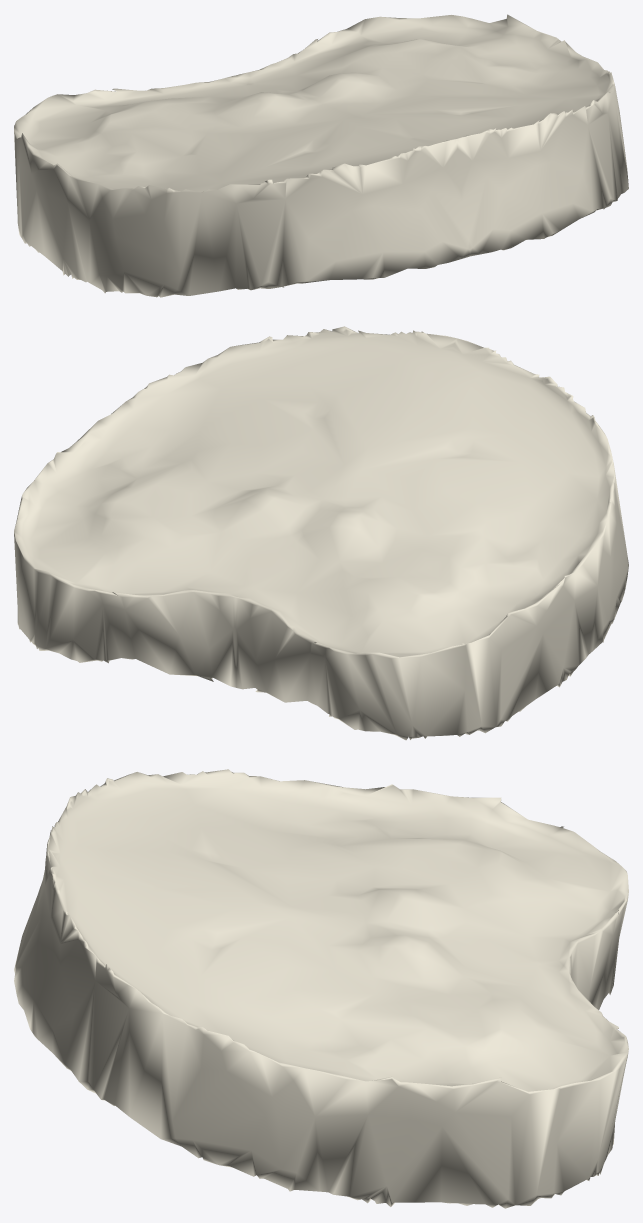
The picture shows the model from 3 angles, top to bottom: view 1: azimuth 30°, elevation 25°; view 2: azimuth 150°, elevation 25°; view 3: azimuth 270°, elevation 25°; orthographic projection. The views are drawn at different scales.
Visible parts, largest first — view 1: ZA_a3bbb926e3fd52f2; view 2: ZA_a3bbb926e3fd52f2; view 3: ZA_a3bbb926e3fd52f2.
Part boxes in pixels (x1=…): ZA_a3bbb926e3fd52f2: x1=14, y1=14, x2=628, y2=297; ZA_a3bbb926e3fd52f2: x1=14, y1=326, x2=628, y2=740; ZA_a3bbb926e3fd52f2: x1=14, y1=769, x2=628, y2=1208.
Bounding box in the file's own units: 0.0432 × 0.0153 × 0.0381.
